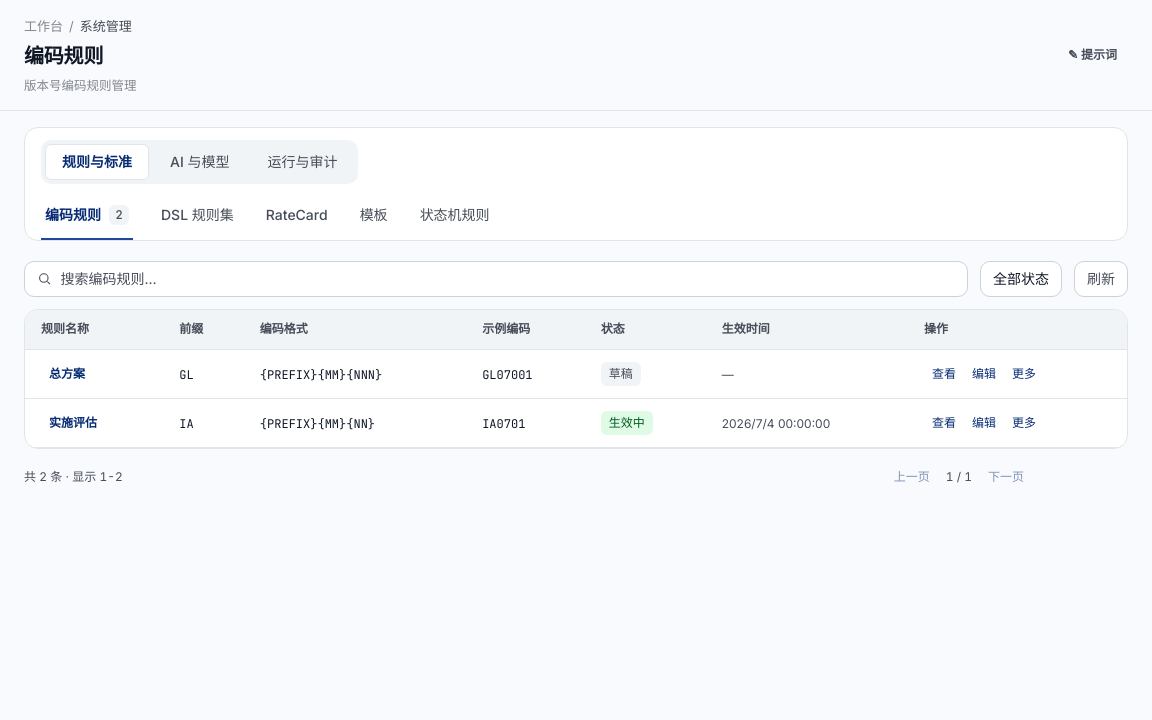
SystemManagement code rules actions › 编辑未提交时关闭需要确认，放弃后不发送写请求
The width and height of the screenshot is (1152, 720).
Click the button with aria-label "编辑 总方案". click: (984, 374)
box: [964,358,1004,390]
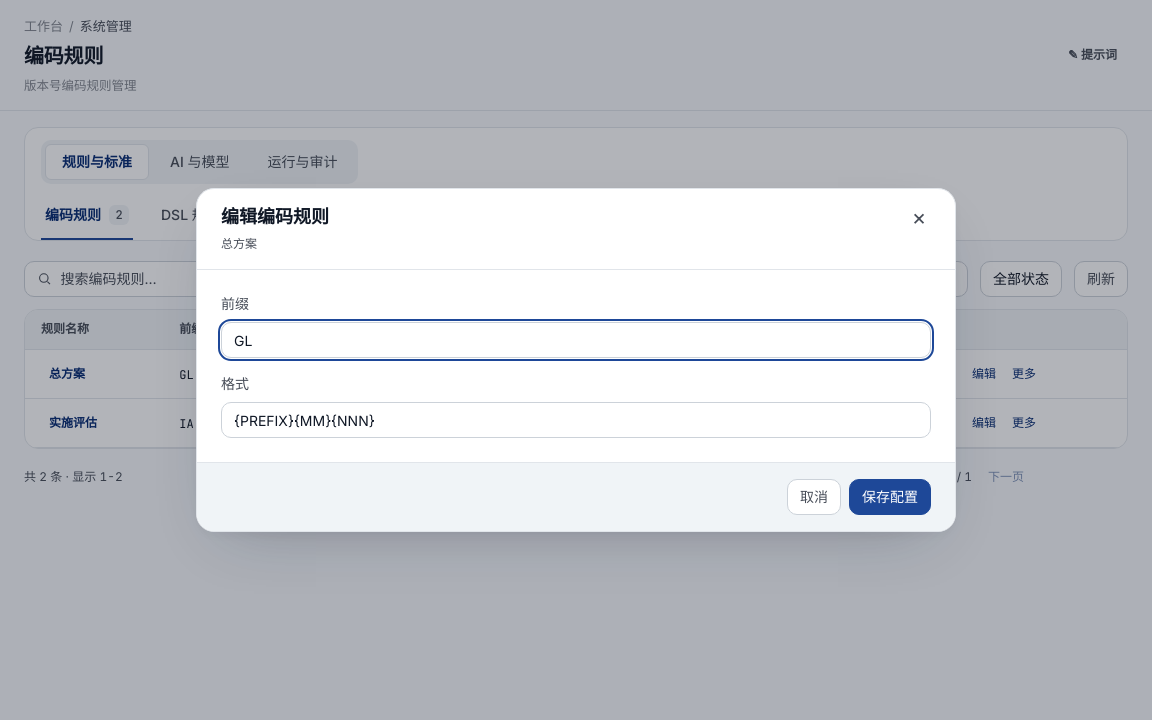
Replace the text in the field labelled "前缀" with "NEW". click: (576, 340)
box: [221,322,931,358]
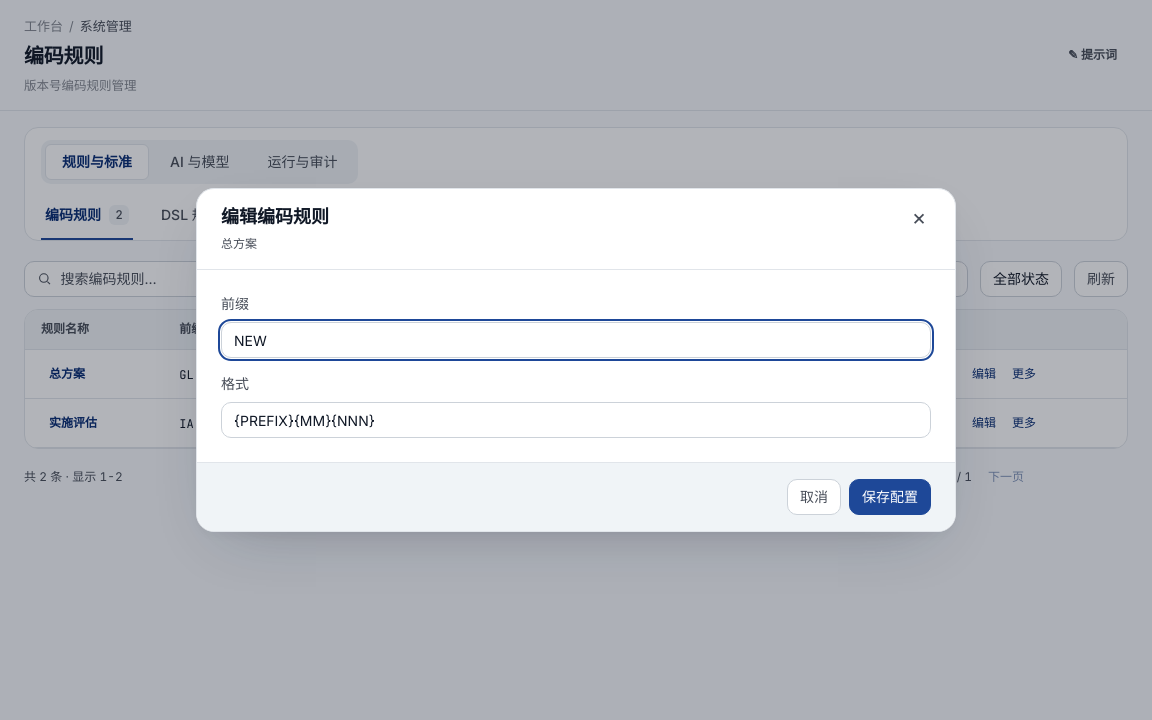
Press Escape in the dialog "编辑编码规则", box [196,188,956,532]
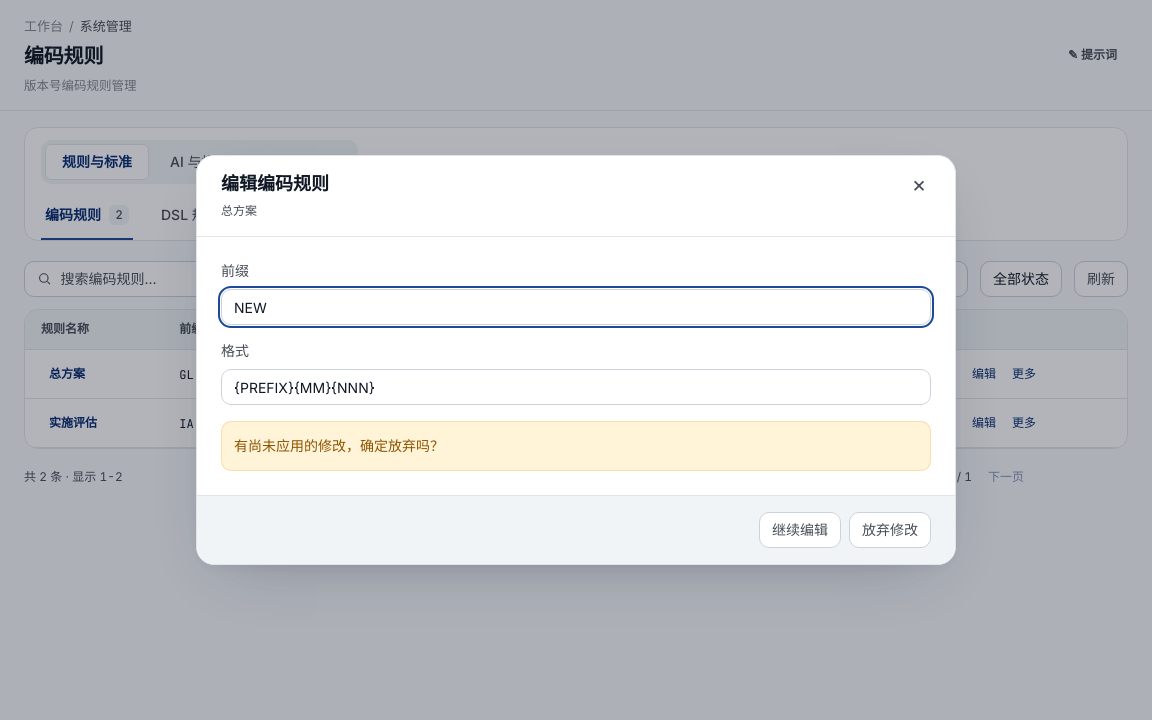
expect the message shows "放弃": met, box [221,421,931,471]
Click the button "放弃修改". click: (890, 530)
box: [849,512,931,548]
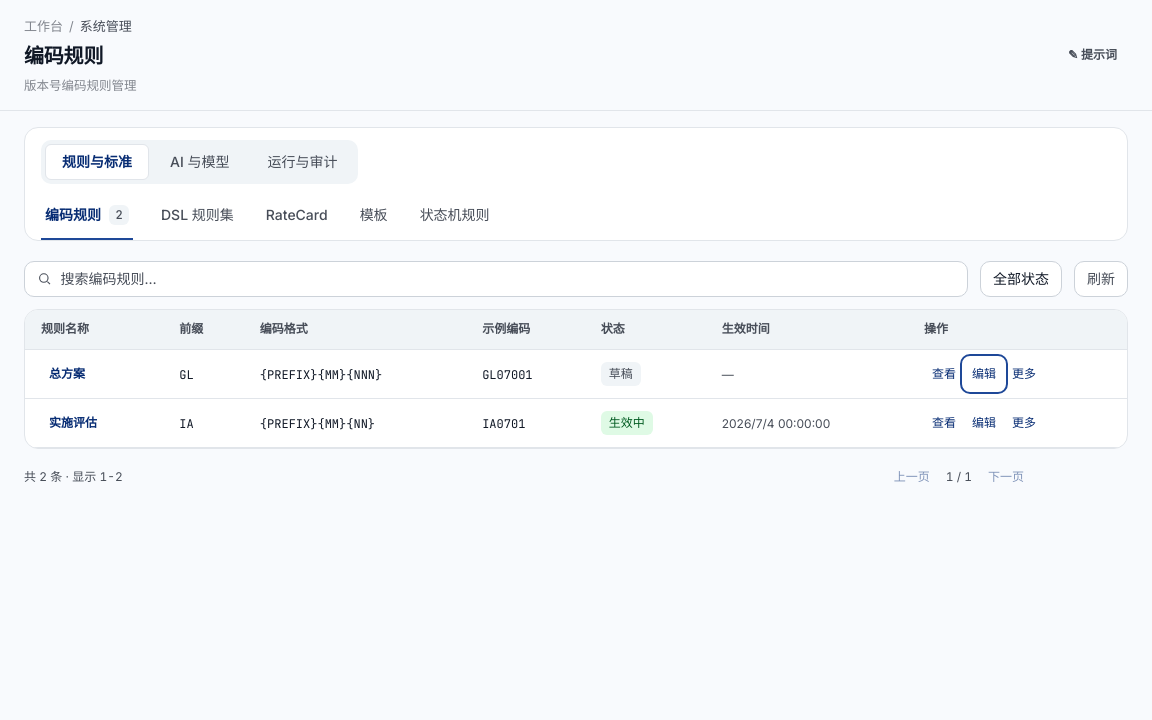
expect the dialog is gone: met
